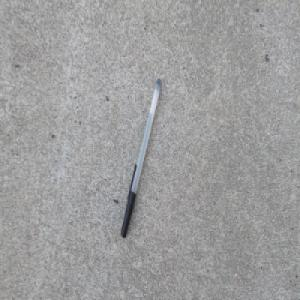Pen: (120, 76, 162, 238)
